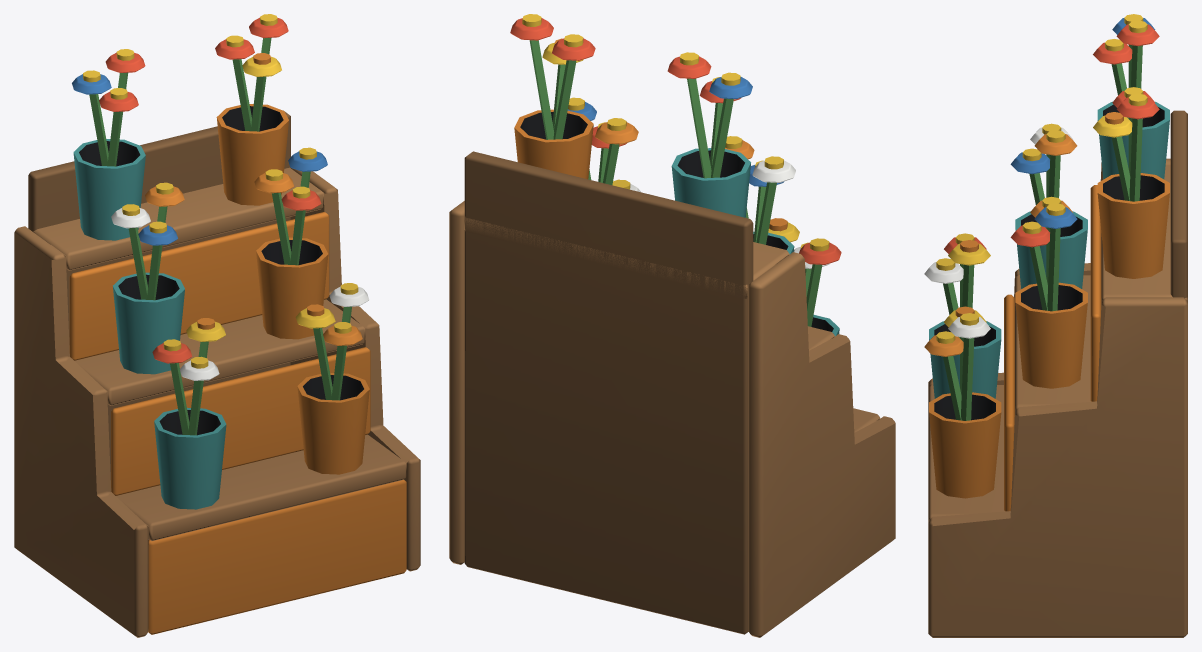
The model's file is FlowerStand_01.glb.
The picture shows the model from 3 angles, left to right: view 1: azimuth 30°, elevation 25°; view 2: azimuth 150°, elevation 25°; view 3: azimuth 270°, elevation 25°; orthographic projection. The views are drawn at different scales.
Parts seen in each view (by area): view 1: SM_FlowerStand_01; view 2: SM_FlowerStand_01; view 3: SM_FlowerStand_01.
Boxes of the visible parts, <box> form: SM_FlowerStand_01: <box>14,14,420,637</box>; SM_FlowerStand_01: <box>449,14,895,637</box>; SM_FlowerStand_01: <box>924,14,1187,637</box>.
Size of the model in its own units: 0.8 by 1.31 by 0.61.
Materials: 1 (1 with a texture image).
